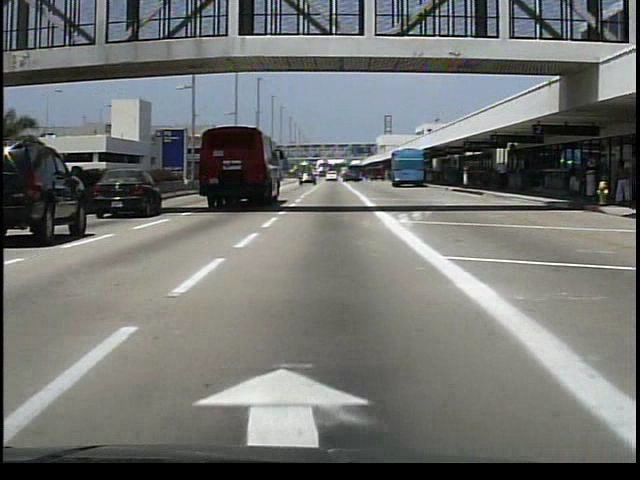person: (500, 161, 513, 192)
